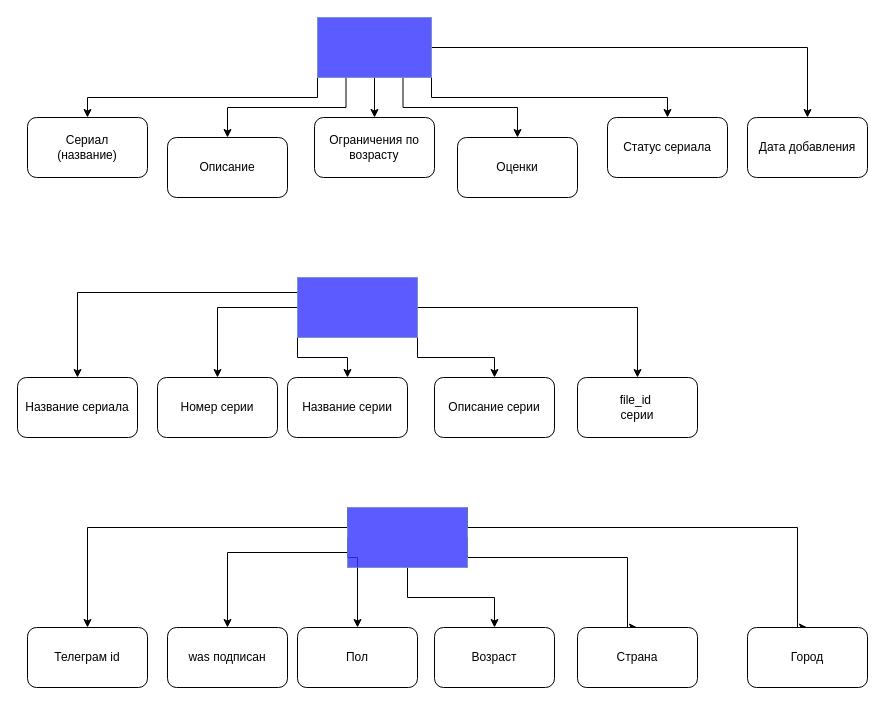
Image size: 885x705. Some labels were removed from this diagram. The centre of each missing label's shape, as x and y in pixels:
Серия: pixel 357 307
Список сериалов: pixel 374 47
Юзер: pixel 407 537
